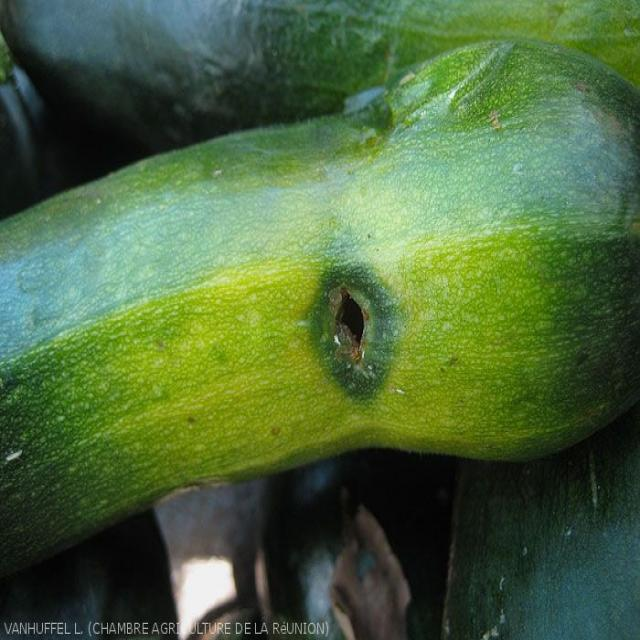Fruit fly: (287, 249, 409, 412)
